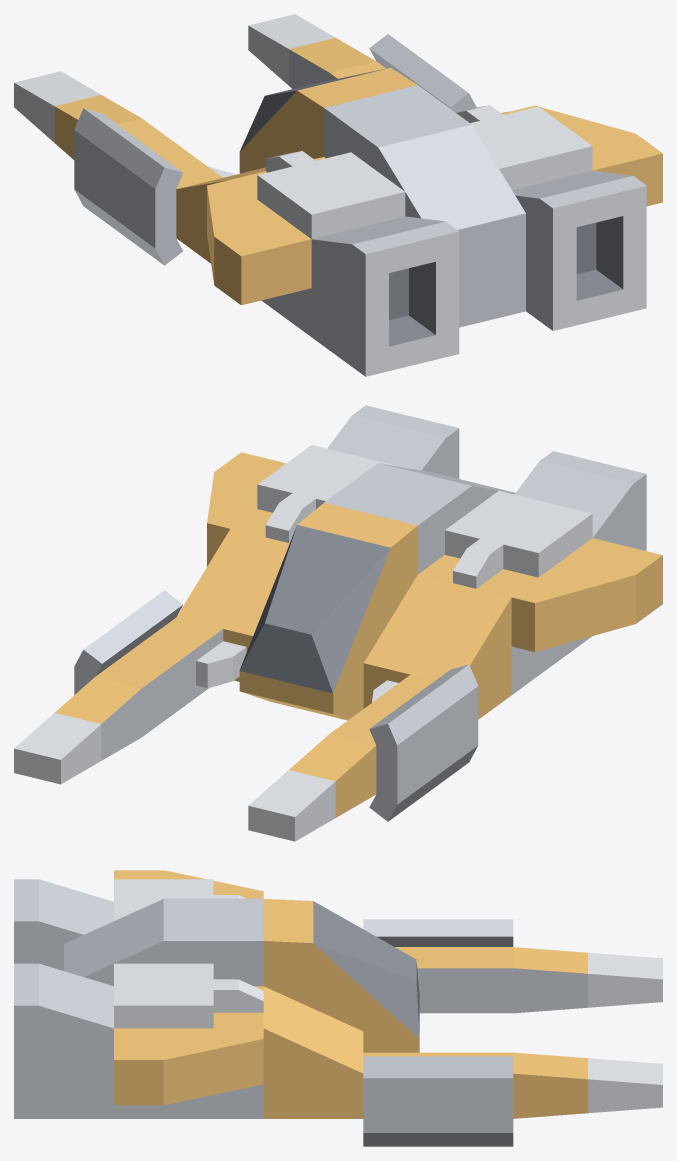
The model's file is craft_miner.glb.
The picture shows the model from 3 angles, top to bottom: view 1: azimuth 30°, elevation 25°; view 2: azimuth 150°, elevation 25°; view 3: azimuth 270°, elevation 25°; orthographic projection. The views are drawn at different scales.
Visible parts, largest first — view 1: craft_miner; view 2: craft_miner; view 3: craft_miner.
Boxes of the visible parts, x1=… form: craft_miner: x1=14, y1=14, x2=662, y2=376; craft_miner: x1=14, y1=405, x2=662, y2=841; craft_miner: x1=14, y1=870, x2=662, y2=1146.
Bounding box in the file's own units: 1.8 × 0.7 × 2.6.
